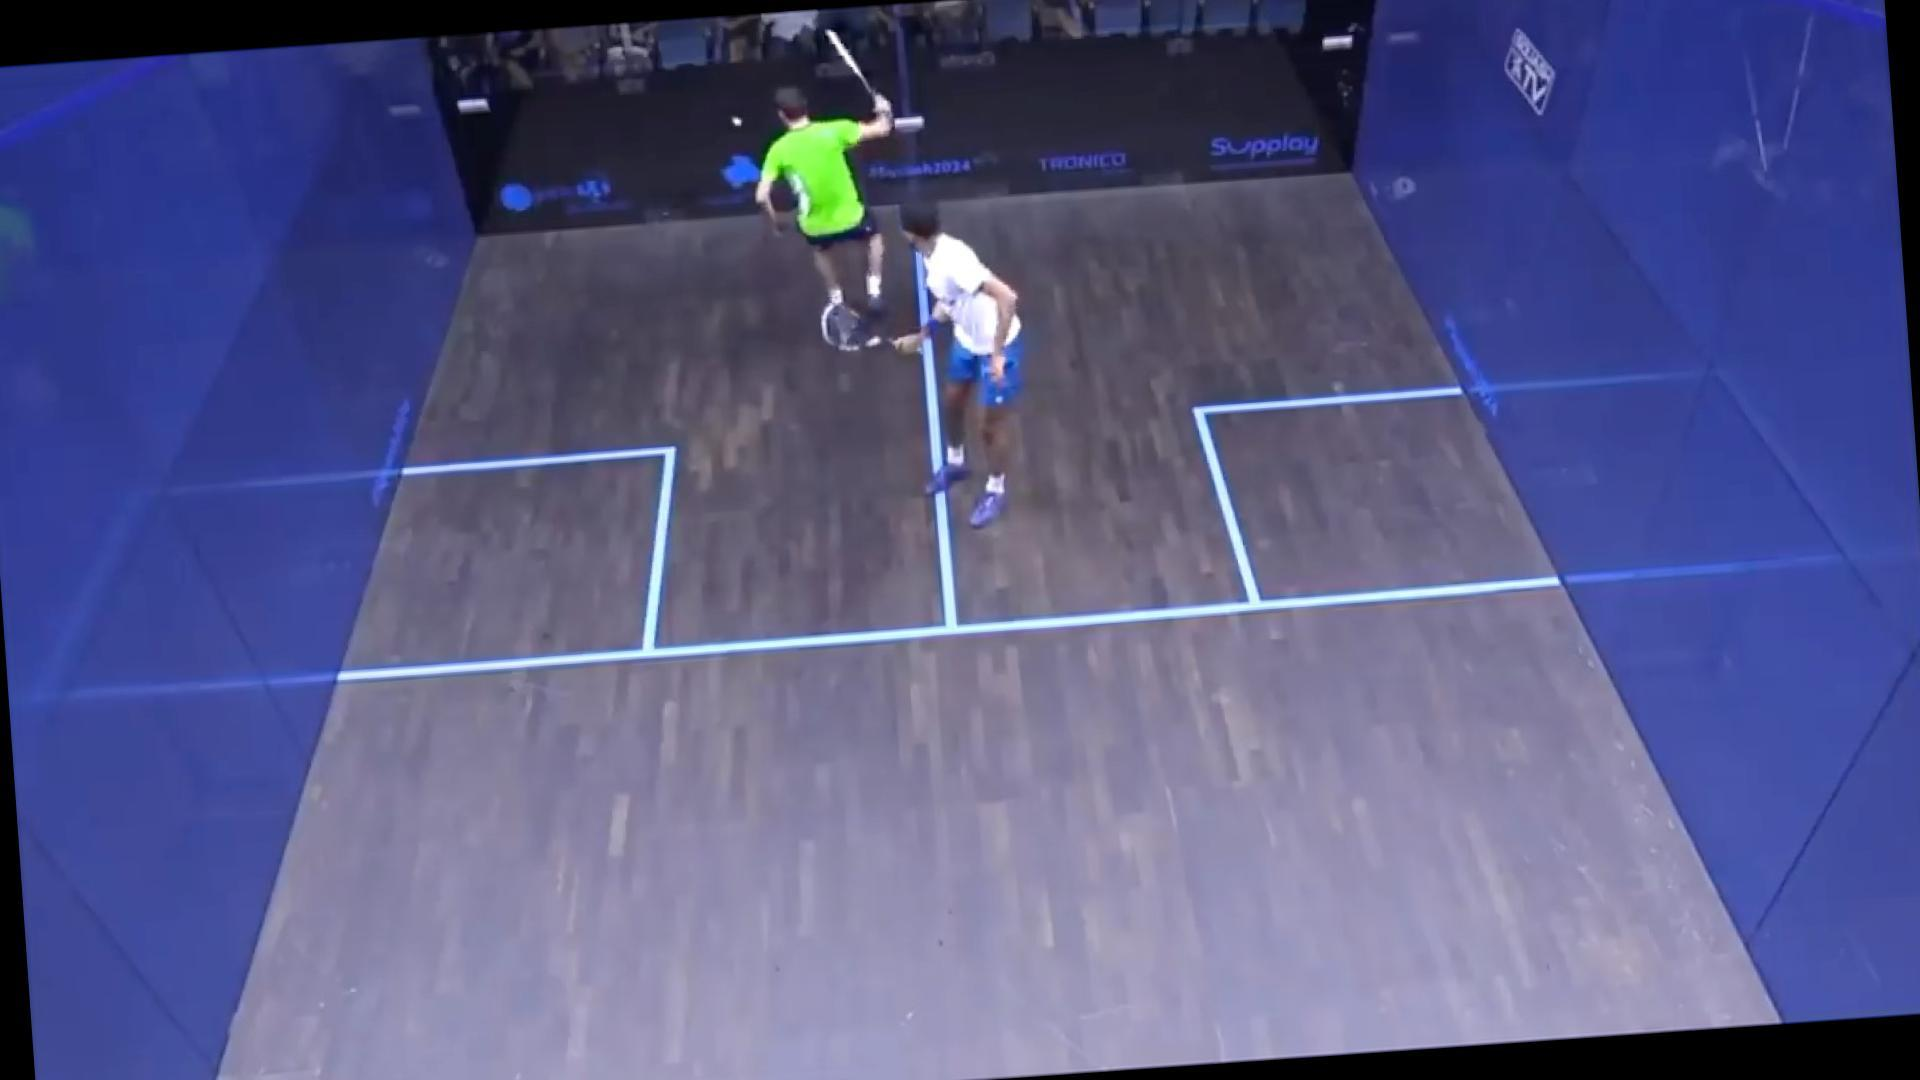Squash-Ball: (719, 102, 754, 146)
